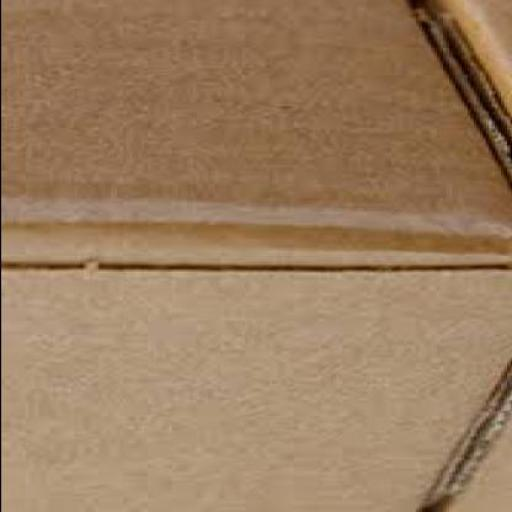cardboard: (0, 2, 510, 511)
